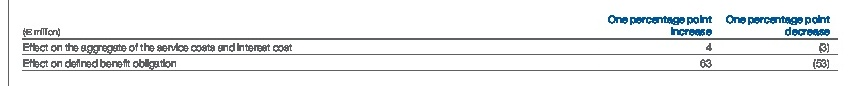table: (0, 0, 851, 86)
